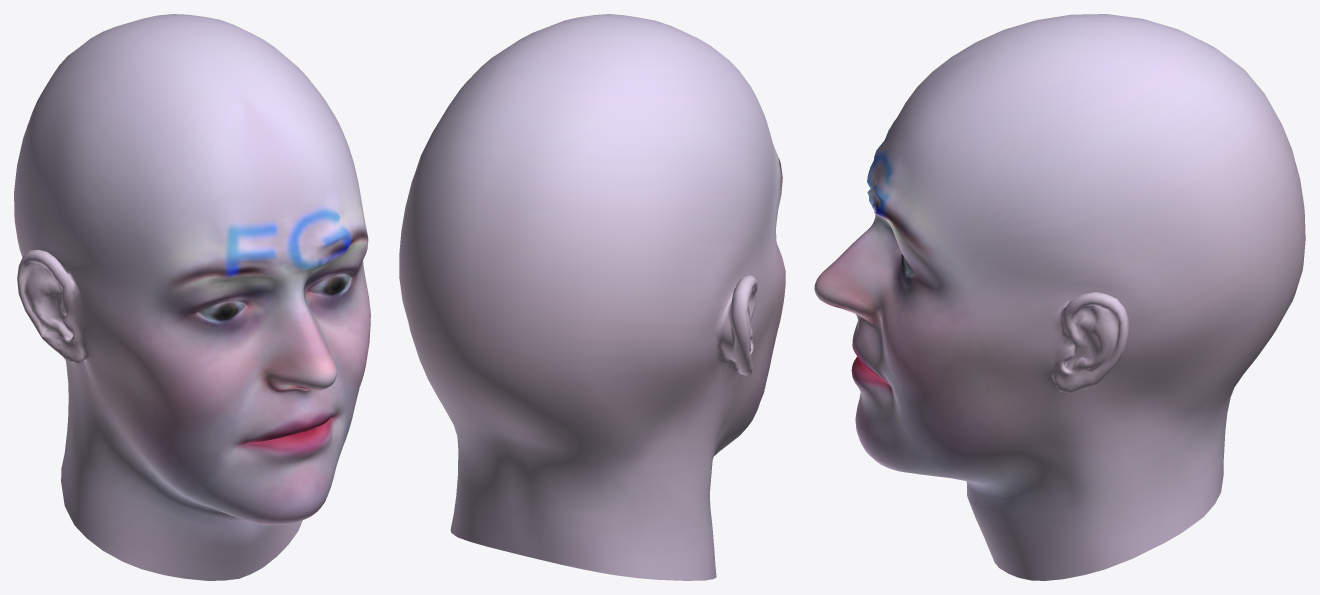
The model's file is avg_anyrace_female_14.obj.
The picture shows the model from 3 angles, left to right: view 1: azimuth 30°, elevation 25°; view 2: azimuth 150°, elevation 25°; view 3: azimuth 270°, elevation 25°; orthographic projection. The views are drawn at different scales.
Parts seen in each view (by area): view 1: HeadHires; view 2: HeadHires; view 3: HeadHires.
Part boxes in pixels (<box>): HeadHires: <box>14,14,370,580</box>; HeadHires: <box>399,14,785,580</box>; HeadHires: <box>814,14,1305,580</box>.
Size of the model in its own units: 184 by 283 by 239.
3 materials, 3 textured.
